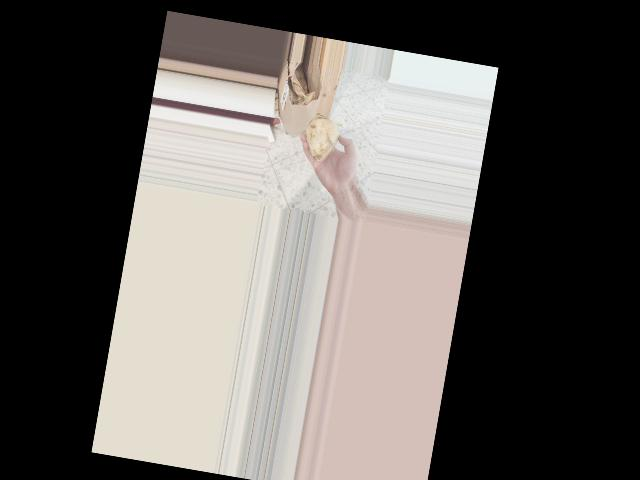onion: (299, 110, 343, 167)
